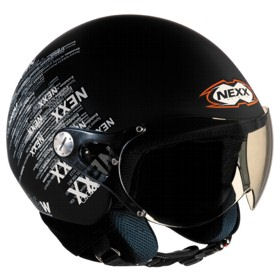helmet: (7, 17, 268, 260)
